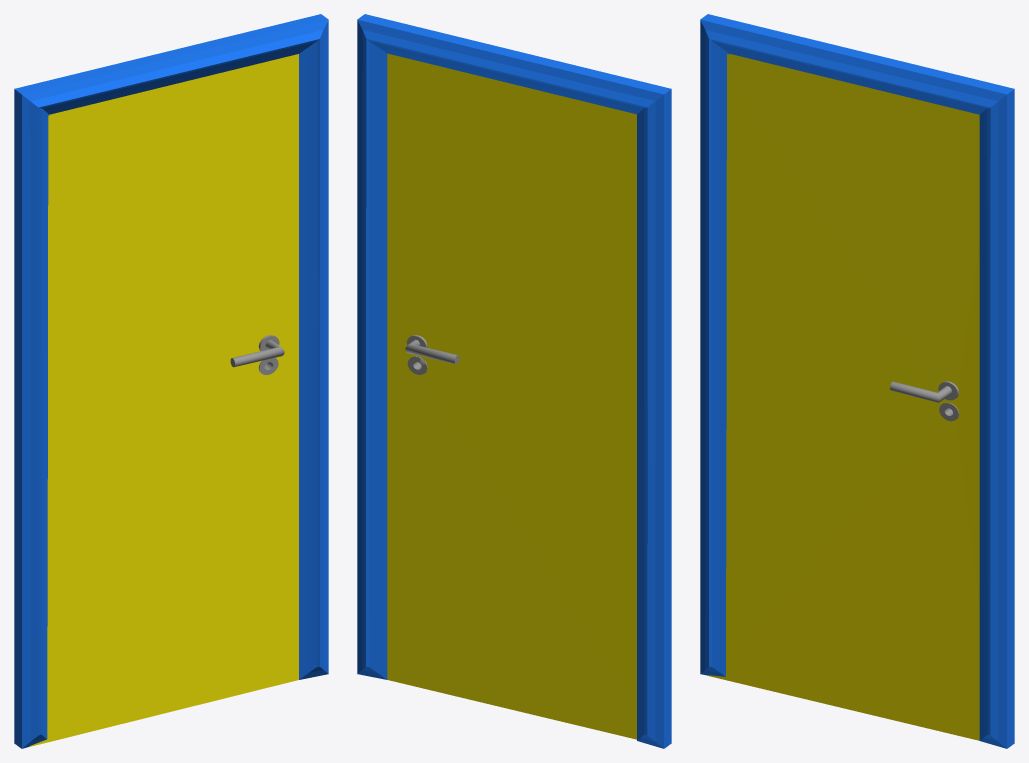
The model's file is Door Style2.fbx.
3 renders of one model, left to right at view 1: azimuth 30°, elevation 25°; view 2: azimuth 150°, elevation 25°; view 3: azimuth 330°, elevation 25°, orthographic.
Visible parts, largest first — view 1: Porte_003, encadrement_002, clanche_002; view 2: Porte_003, encadrement_002, clanche_002; view 3: Porte_003, encadrement_002, clanche_002.
Part boxes in pixels (x1,y1,x2,y2): Porte_003: (29, 54, 298, 746); encadrement_002: (14, 14, 328, 748); clanche_002: (230, 340, 284, 367); Porte_003: (387, 53, 636, 739); encadrement_002: (357, 14, 671, 748); clanche_002: (405, 339, 459, 364); Porte_003: (708, 54, 979, 740); encadrement_002: (700, 14, 1014, 748); clanche_002: (890, 381, 951, 402).
Size of the model in its own units: 111 by 225 by 17.01.
